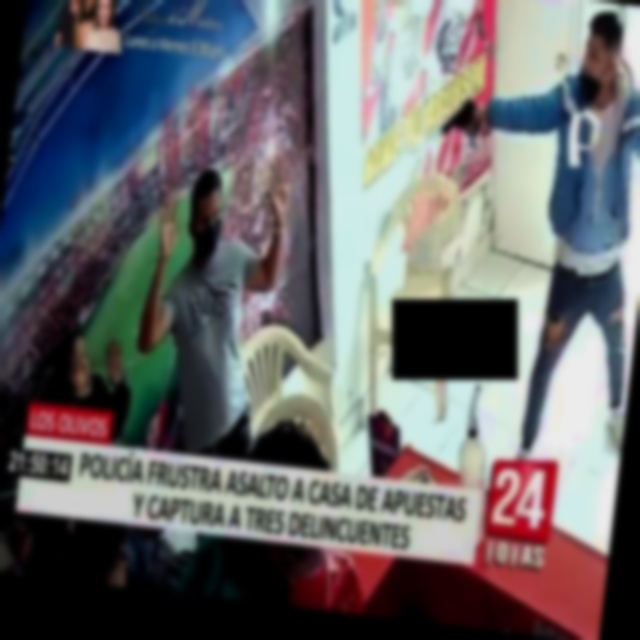gun: (431, 79, 491, 153)
